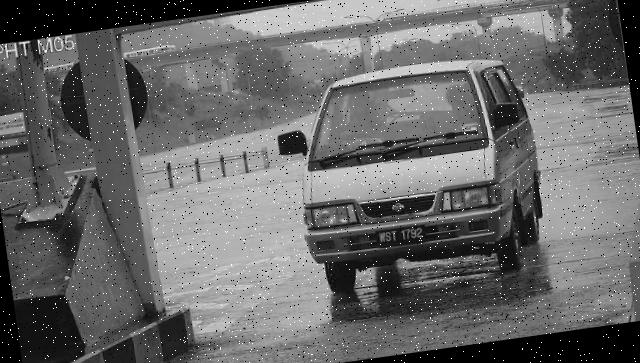License_Plate: (376, 222, 430, 250)
van: (285, 50, 554, 299)
